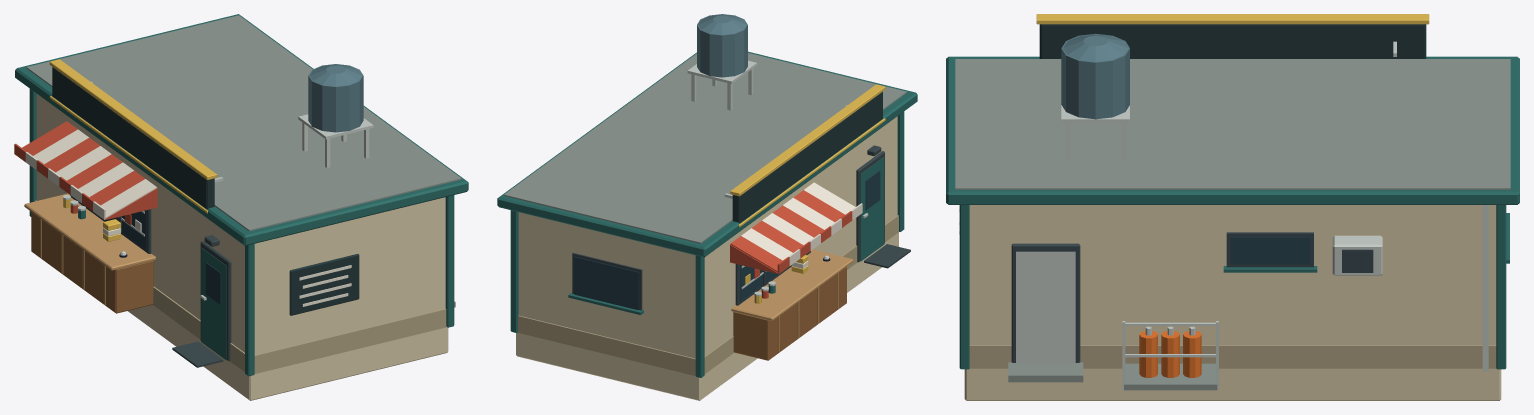
The model's file is sm_env_service_kiosk.glb.
The picture shows the model from 3 angles, left to right: view 1: azimuth 30°, elevation 25°; view 2: azimuth 150°, elevation 25°; view 3: azimuth 270°, elevation 25°; orthographic projection. The views are drawn at different scales.
Parts seen in each view (by area): view 1: RoofDeck, Walls, Roof, Plinth, SignFascia, CounterBody, CounterTop, MenuBoard, Tank, SignFasciaTop, Door, CornerTrim.001 (+19 smaller); view 2: RoofDeck, Walls, Roof, Plinth, SignFascia, CounterBody, CounterTop, SideWindow, Tank, SignFasciaTop, Door, CornerTrim (+20 smaller); view 3: Walls, RoofDeck, SignFascia, Roof, Plinth, BackDoor, SignFasciaTop, Tank, BackWindow, BackDoorFrame, GasCageFloor, CornerTrim.002 (+12 smaller).
Part boxes in pixels (x1,y1,x2,y2): RoofDeck: (26,15,461,231); Walls: (36,94,448,400); Roof: (15,14,468,245); Plinth: (35,200,446,373); SignFascia: (52,67,214,208); CounterBody: (31,212,153,313); CounterTop: (24,193,155,270); MenuBoard: (289,254,359,315); Tank: (308,64,363,132); SignFasciaTop: (49,59,217,179); Door: (201,247,226,360); CornerTrim.001: (245,244,254,376); RoofDeck: (504,53,906,243); Walls: (516,116,898,400); Roof: (497,51,917,257); Plinth: (517,215,898,375); SignFascia: (732,91,882,223); CounterBody: (733,267,846,360); CounterTop: (731,249,853,320); SideWindow: (574,256,638,310); Tank: (697,14,747,77); SignFasciaTop: (730,84,885,196); Door: (860,157,884,261); CornerTrim: (695,255,704,377); Walls: (964,205,1501,400); RoofDeck: (955,59,1510,189); SignFascia: (1039,24,1426,58); Roof: (946,56,1519,204); Plinth: (969,345,1496,368); BackDoor: (1016,251,1075,363); SignFasciaTop: (1036,14,1429,24); Tank: (1061,33,1129,119); BackWindow: (1230,237,1310,264); BackDoorFrame: (1011,243,1080,362); GasCageFloor: (1124,363,1217,390); CornerTrim.002: (1496,205,1506,369).
Bounding box in the file's own units: 6.67 × 5.73 × 9.2.
